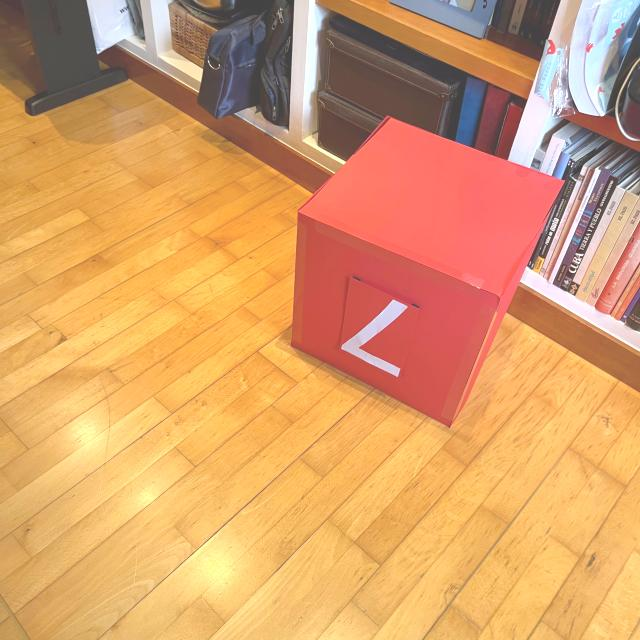box: (287, 112, 567, 428)
